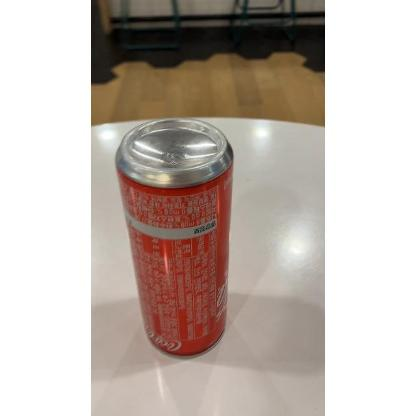Can: (115, 115, 233, 360)
